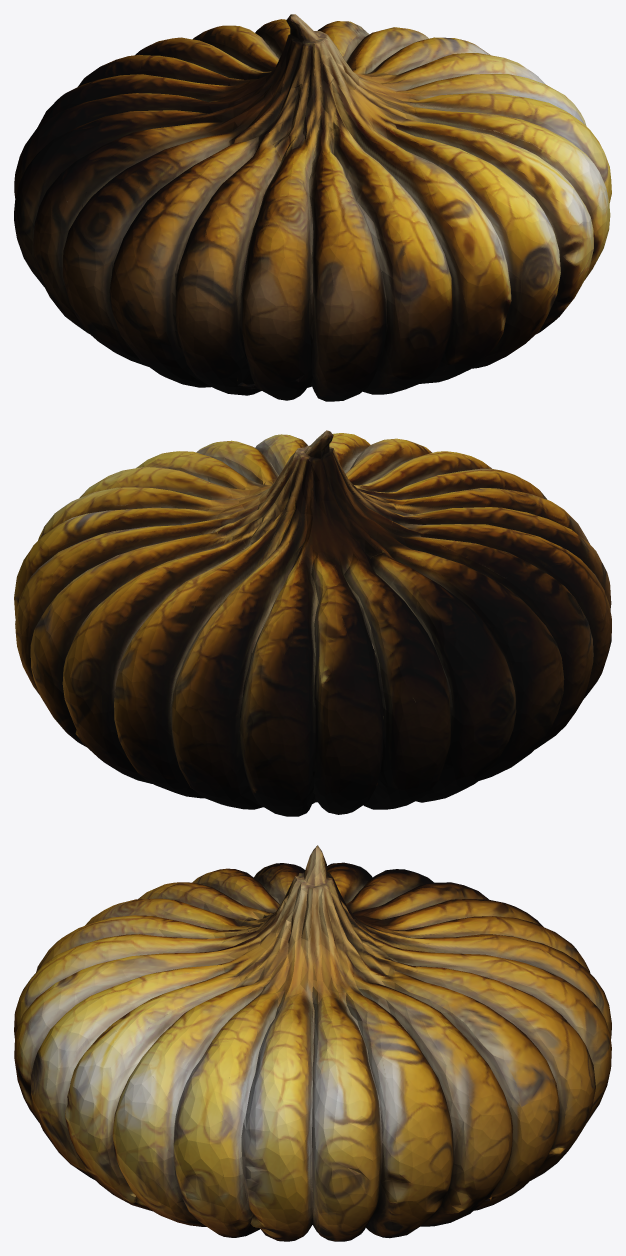
The model's file is dried-gourd-container-3d.jpeg.glb.
3 views of the same model, one above another, from view 1: azimuth 30°, elevation 25°; view 2: azimuth 150°, elevation 25°; view 3: azimuth 270°, elevation 25° (orthographic).
Visible parts, largest first — view 1: world; view 2: world; view 3: world.
Boxes of the visible parts, <box> form: world: <box>14,14,611,401</box>; world: <box>14,430,611,816</box>; world: <box>14,845,611,1241</box>.
Bounding box in the file's own units: 0.9993 × 0.6165 × 1.
Materials: 1 (1 with a texture image).
